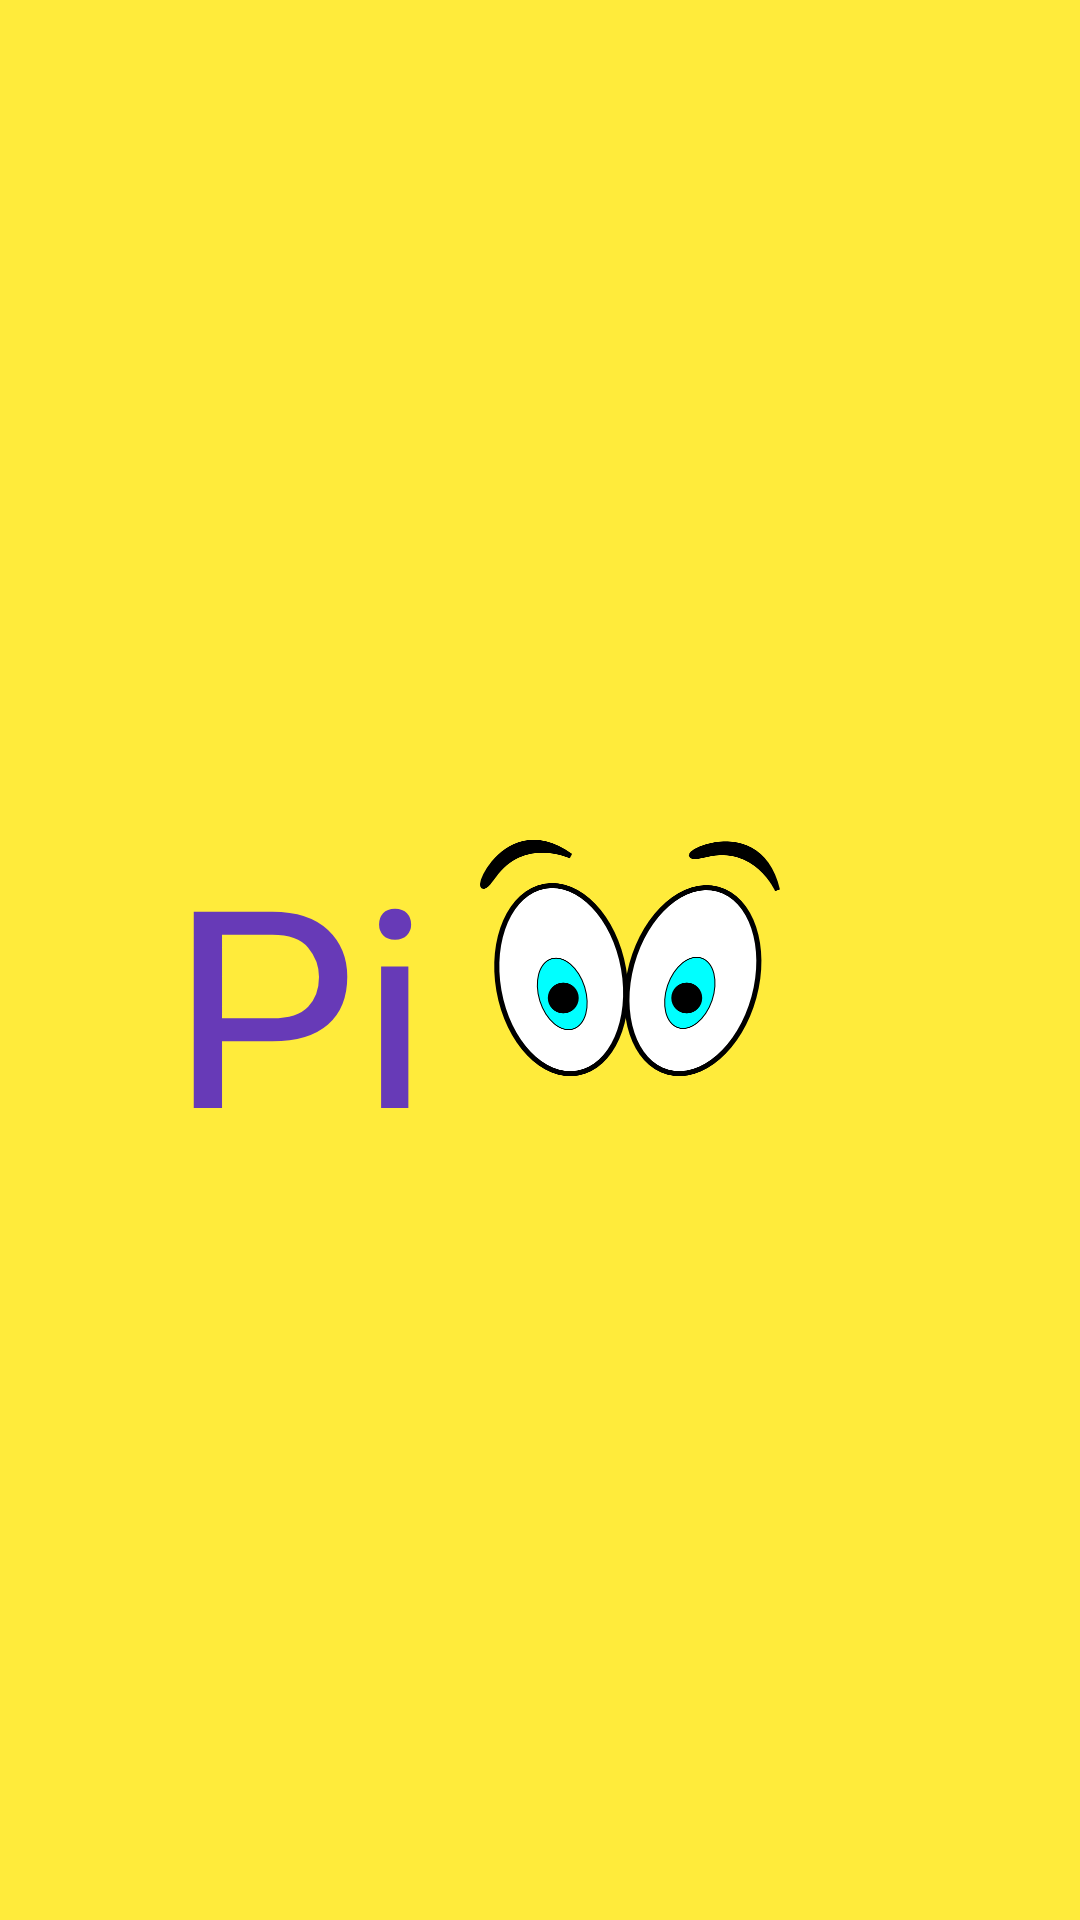

Icons on this 1080x1920 Android screen, each with its box as [x1=x1, y1=y1, x2=x2, y2=y2]:
eyes: [x1=480, y1=840, x2=780, y2=1076]
